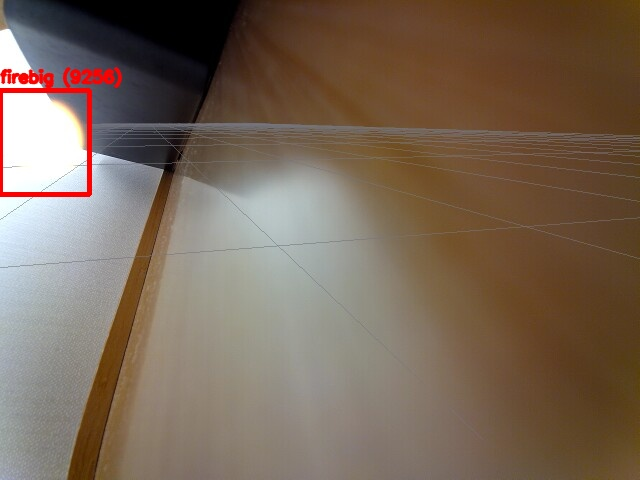firebig: (0, 90, 89, 194)
